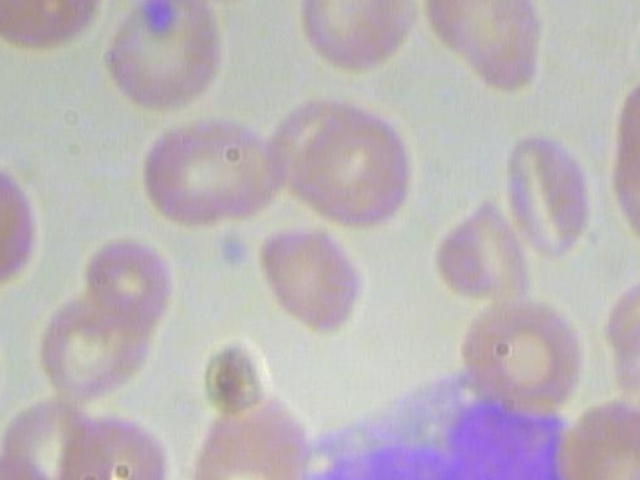RBC: (117, 102, 299, 240), (443, 300, 588, 427), (283, 100, 419, 226), (98, 0, 235, 120), (246, 218, 380, 335), (497, 129, 604, 257), (424, 0, 560, 97), (291, 0, 424, 81), (190, 398, 312, 480), (79, 230, 177, 327), (49, 408, 174, 480)
WBC: (302, 356, 583, 480)
